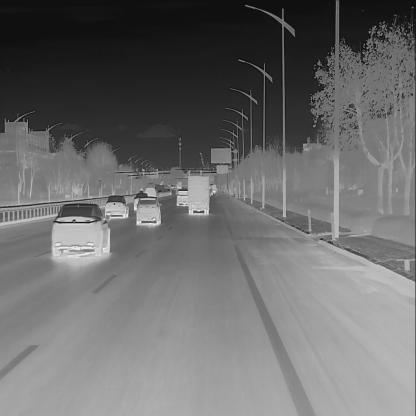car: (51, 200, 110, 258), (136, 194, 161, 226), (104, 194, 130, 218), (133, 192, 149, 211), (176, 187, 188, 206), (144, 186, 158, 199), (208, 187, 213, 196), (139, 190, 144, 194), (166, 188, 171, 192), (170, 184, 174, 188), (157, 188, 161, 192)
truck: (185, 174, 210, 214), (209, 182, 217, 195), (147, 182, 156, 190), (176, 180, 182, 191)
